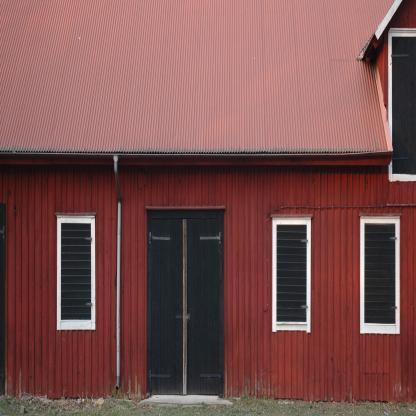Building Outline: (0, 0, 416, 401)
Cornice: (271, 214, 313, 218), (359, 213, 401, 217), (56, 213, 97, 217), (388, 28, 416, 32)
Door: (146, 209, 224, 398)
Floor Slab: (0, 174, 416, 182)
Ground Floor: (0, 166, 416, 401)
Roof: (0, 0, 402, 154)
Top Floor: (0, 0, 416, 165)
Window: (392, 36, 416, 174), (364, 224, 395, 324), (276, 224, 307, 322), (61, 224, 91, 320)
